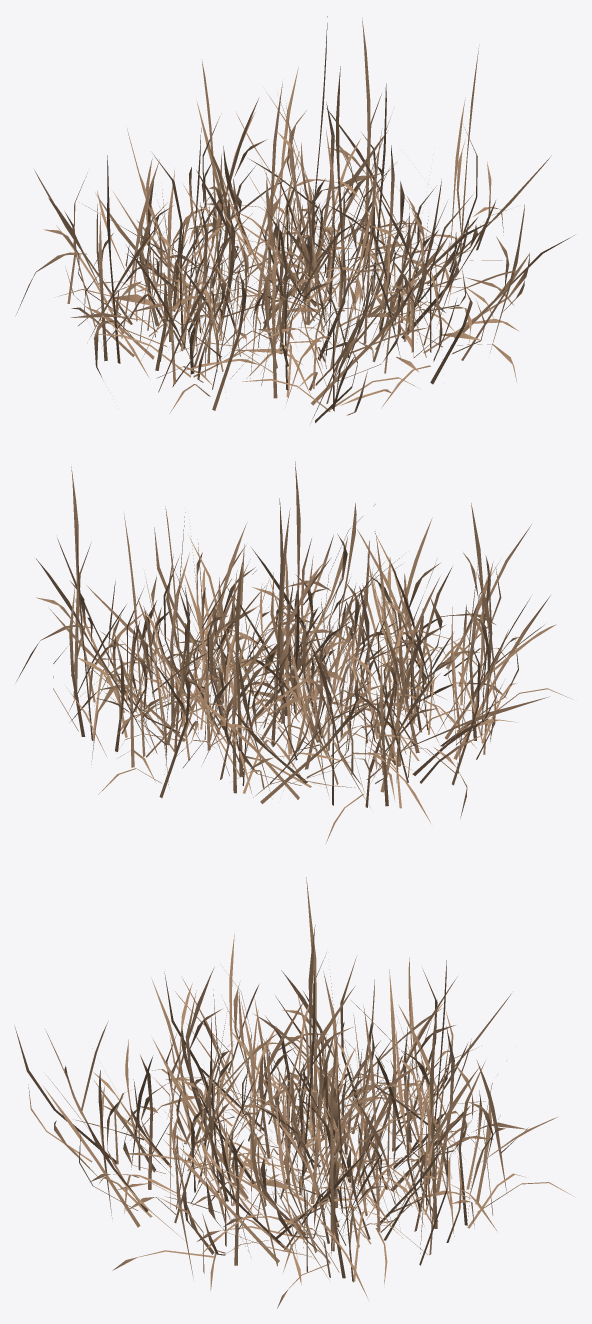
File: drygrass.glb
3 renders of one model, top to bottom at view 1: azimuth 30°, elevation 25°; view 2: azimuth 150°, elevation 25°; view 3: azimuth 270°, elevation 25°, orthographic.
Visible parts, largest first — view 1: Empty; view 2: Empty; view 3: Empty.
Part boxes in pixels (x1,y1,x2,y2): Empty: [16, 16, 574, 423]; Empty: [16, 461, 572, 842]; Empty: [14, 877, 575, 1308].
Size of the model in its own units: 2.13 by 1.2 by 2.13.
1 material, 1 textured.
